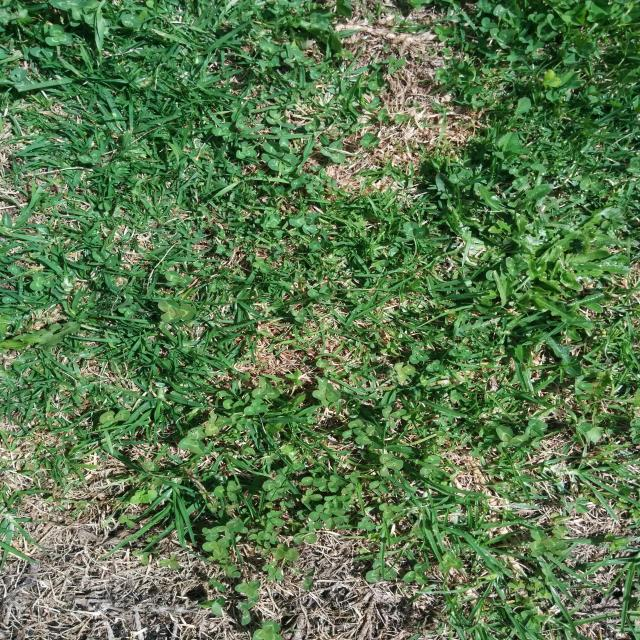Four Leaf Clover: (262, 474, 291, 501)
